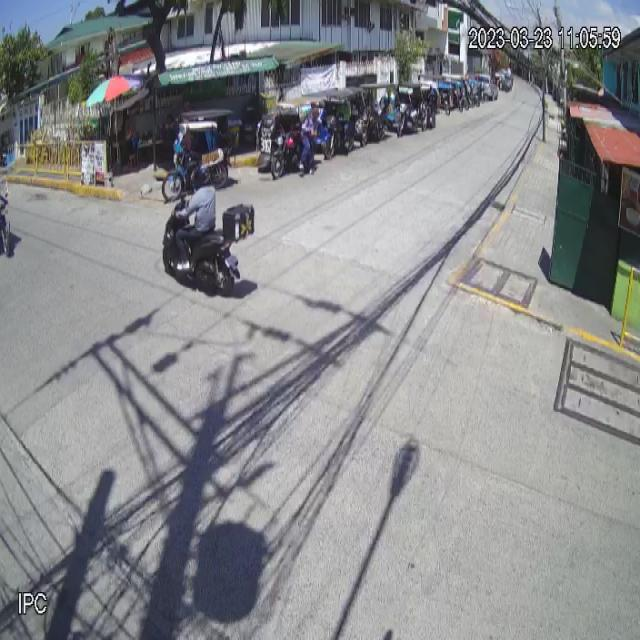Motorcycle: (162, 195, 255, 297)
